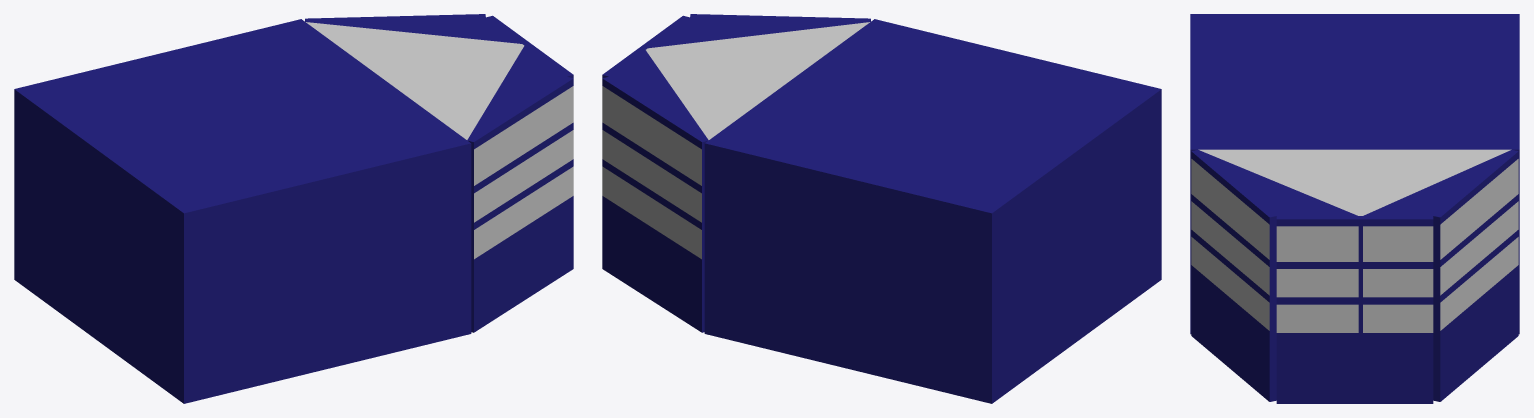
File: Spaceship Model.fbx
3 views of the same model, side by side, from view 1: azimuth 30°, elevation 25°; view 2: azimuth 150°, elevation 25°; view 3: azimuth 270°, elevation 25° (orthographic). The views are drawn at different scales.
Visible parts, largest first — view 1: Ship; view 2: Ship; view 3: Ship.
Boxes of the visible parts, x1=… form: Ship: x1=14, y1=14, x2=573, y2=403; Ship: x1=602, y1=14, x2=1161, y2=403; Ship: x1=1190, y1=14, x2=1519, y2=403.
Size of the model in its own units: 6.2 by 2.6 by 4.2.
